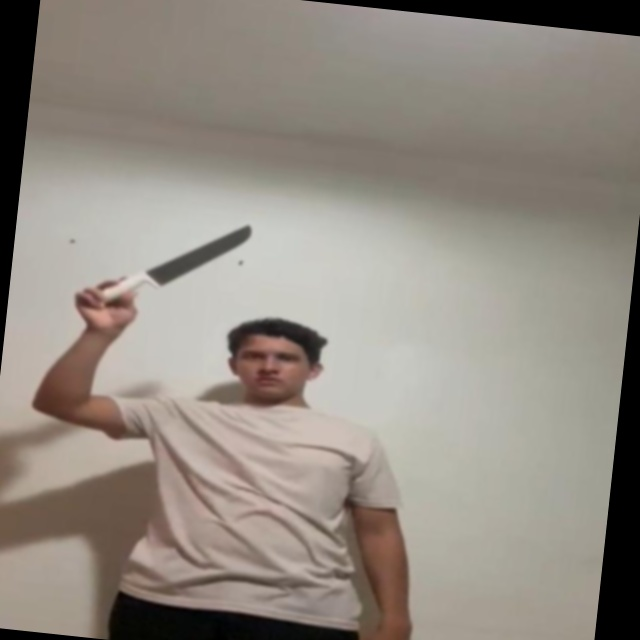Sharp-Object: (149, 213, 254, 289)
